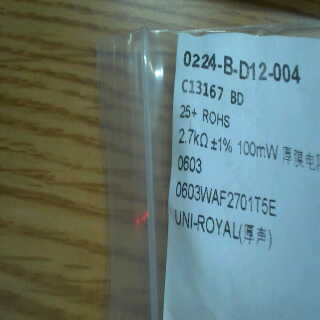2.7kR: (178, 125, 213, 152)
